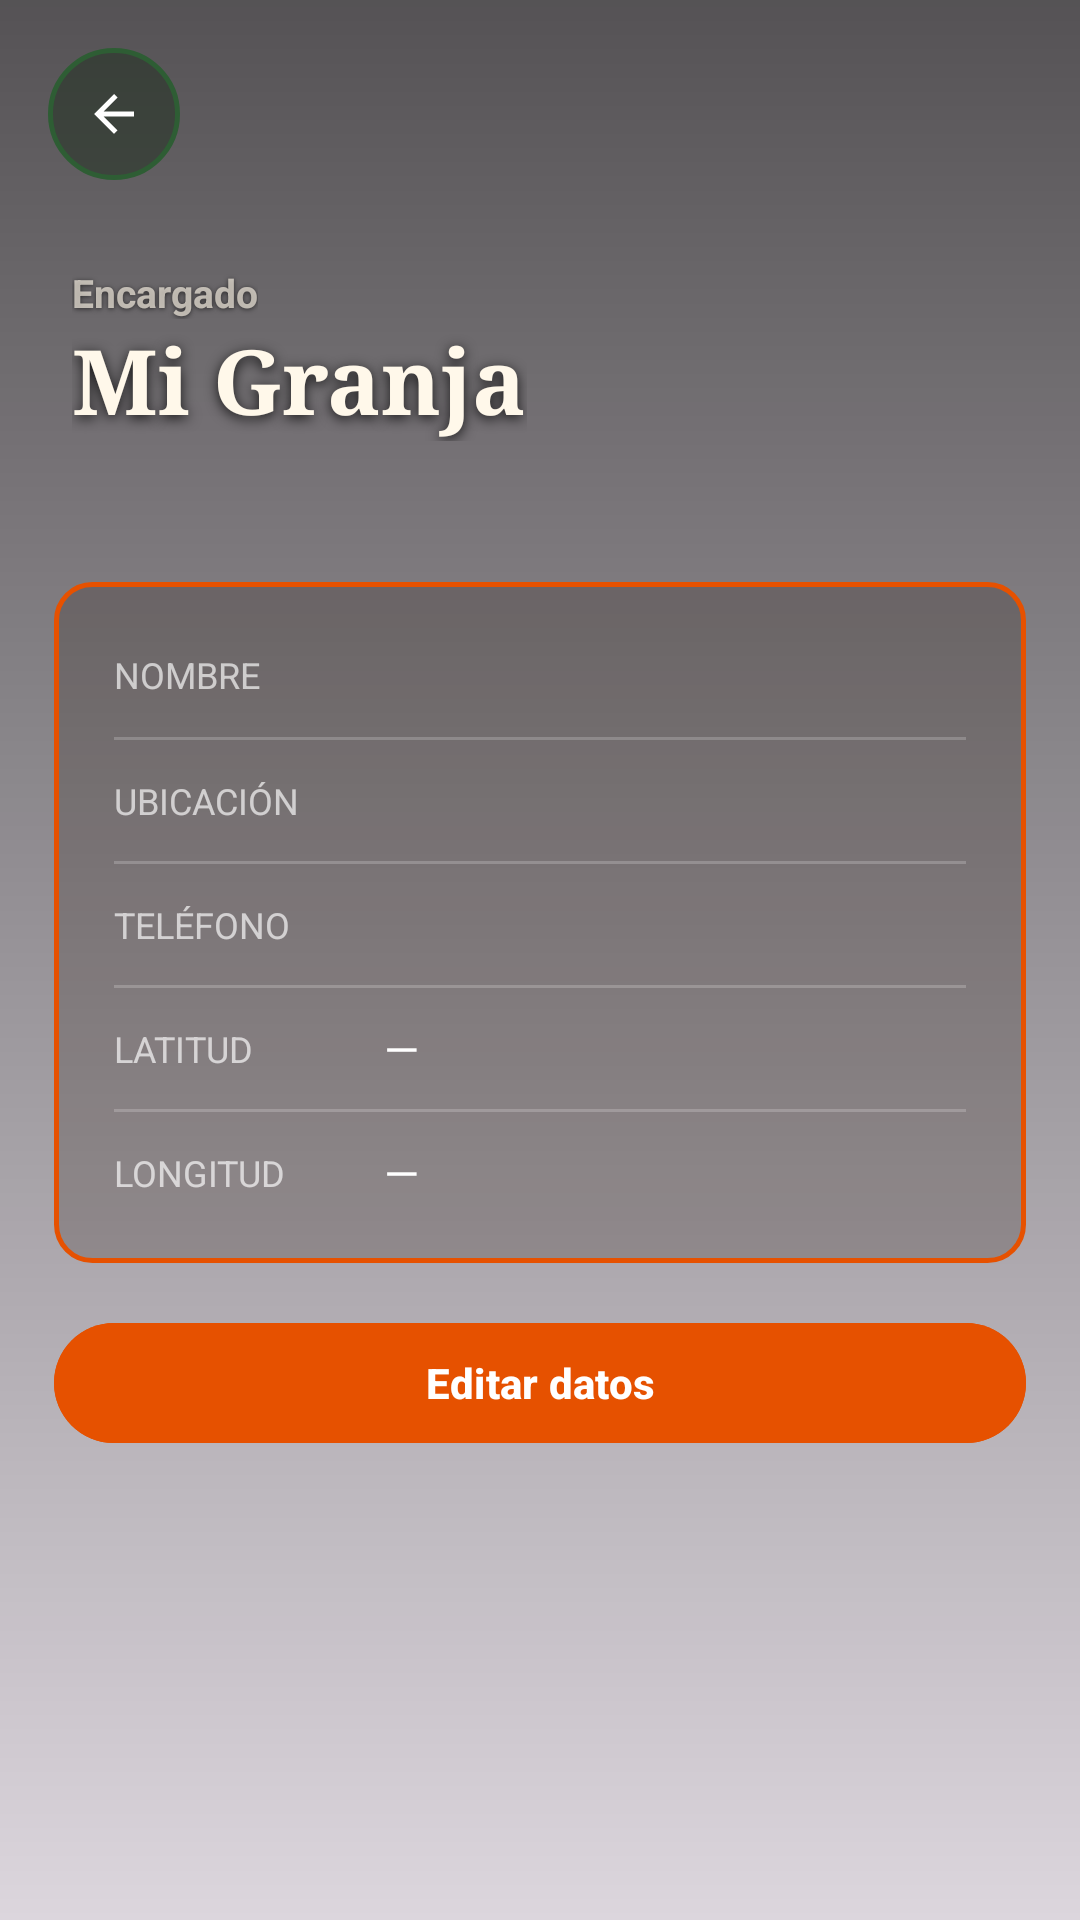

Where to tap for icons on this 1080px×1920px app screen, as [x,y]:
arrow back: [114,114]
